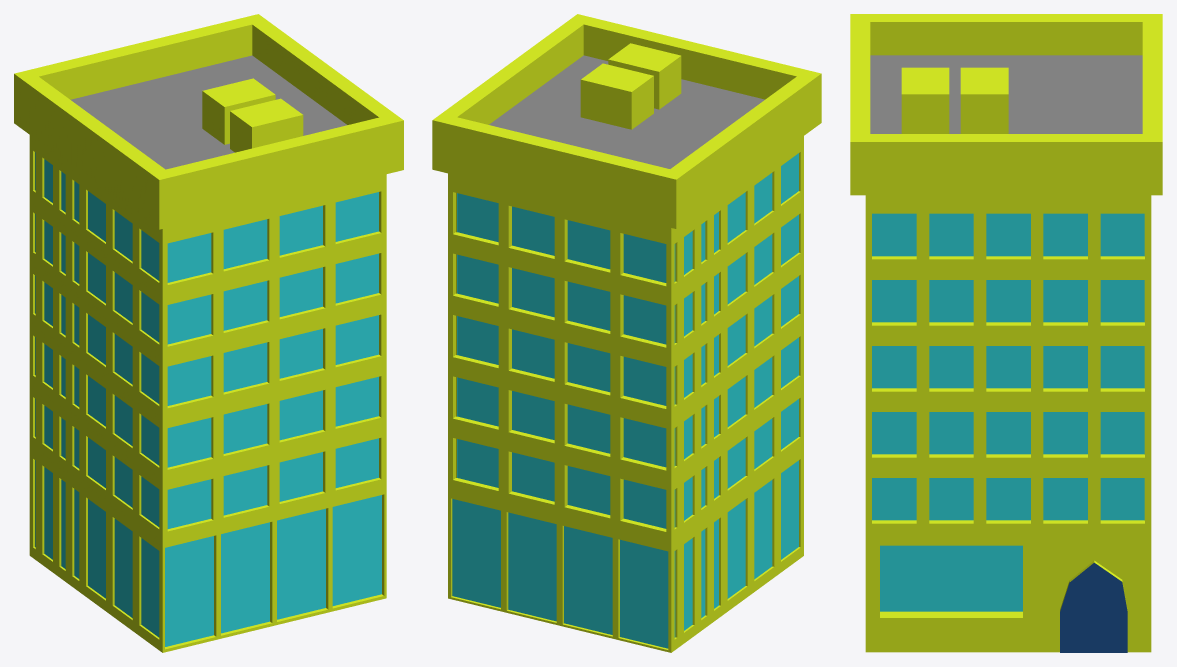
The model's file is BuildingY.obj.
3 views of the same model, side by side, from view 1: azimuth 30°, elevation 25°; view 2: azimuth 150°, elevation 25°; view 3: azimuth 270°, elevation 25° (orthographic). The views are drawn at different scales.
Visible parts, largest first — view 1: Cube.102; view 2: Cube.102; view 3: Cube.102.
Boxes of the visible parts, box(x1,y1,x2,y2) form: Cube.102: box(14, 14, 403, 652); Cube.102: box(432, 14, 821, 652); Cube.102: box(850, 14, 1162, 652).
Size of the model in its own units: 8.86 by 16.88 by 9.12.
